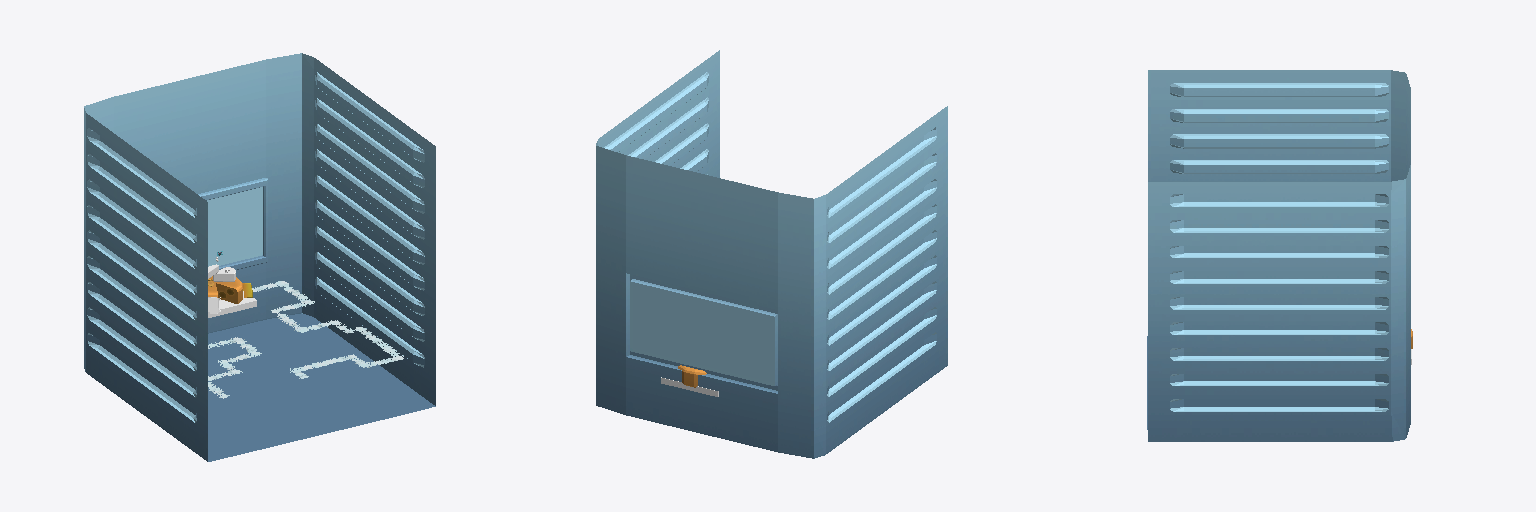
The picture shows the model from 3 angles: view 1: azimuth 30°, elevation 25°; view 2: azimuth 150°, elevation 25°; view 3: azimuth 270°, elevation 25°; orthographic projection.
Parts seen in each view (by area): view 1: Fridge, Paths 1, Cheese_Roll; view 2: Fridge; view 3: Fridge.
Boxes of the visible parts, x1=… form: Fridge: x1=84, y1=53, x2=435, y2=461; Paths 1: x1=208, y1=281, x2=403, y2=398; Cheese_Roll: x1=208, y1=276, x2=242, y2=303; Fridge: x1=596, y1=50, x2=947, y2=458; Fridge: x1=1147, y1=70, x2=1410, y2=441.
Size of the model in its own units: 40 by 43.62 by 40.35.
Materials: 15 (7 with a texture image).